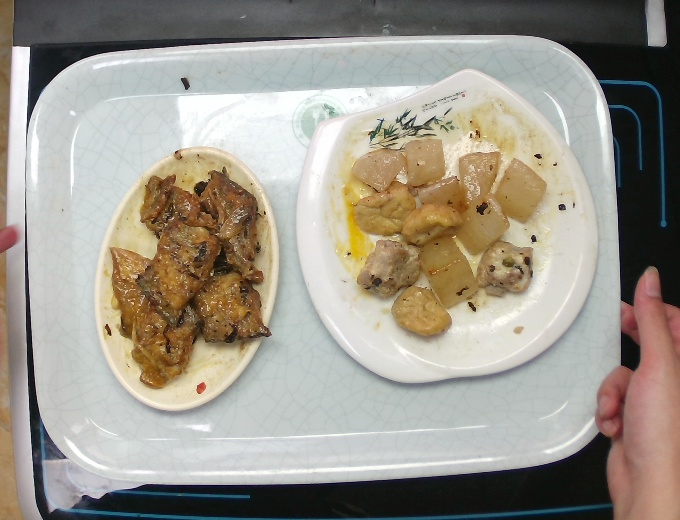JYsf-Mian_Pan: (294, 65, 601, 385)
JYsf-Tuo_Yuan_Wan: (91, 144, 282, 414)
